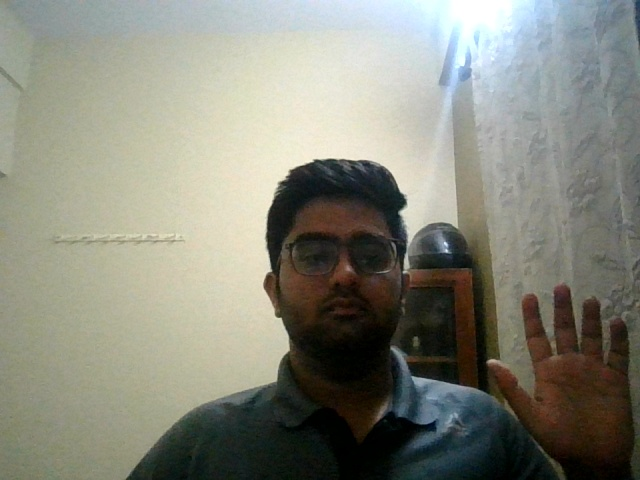Hello: (472, 275, 640, 469)
